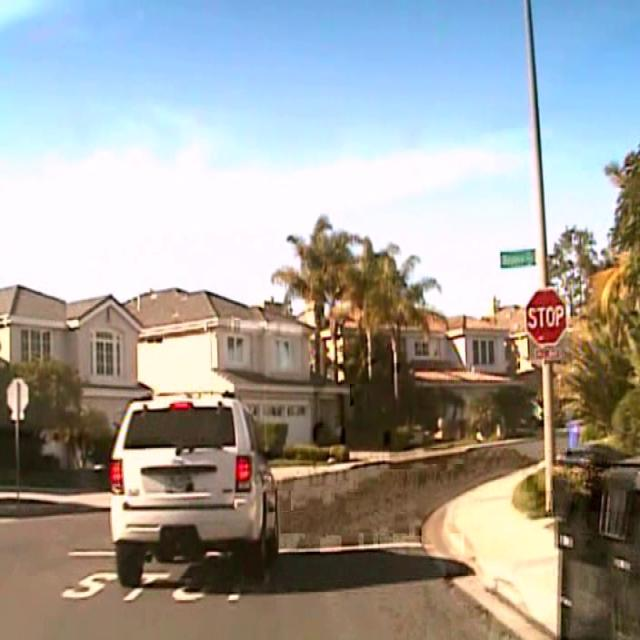stop_sign: (524, 288, 566, 345)
